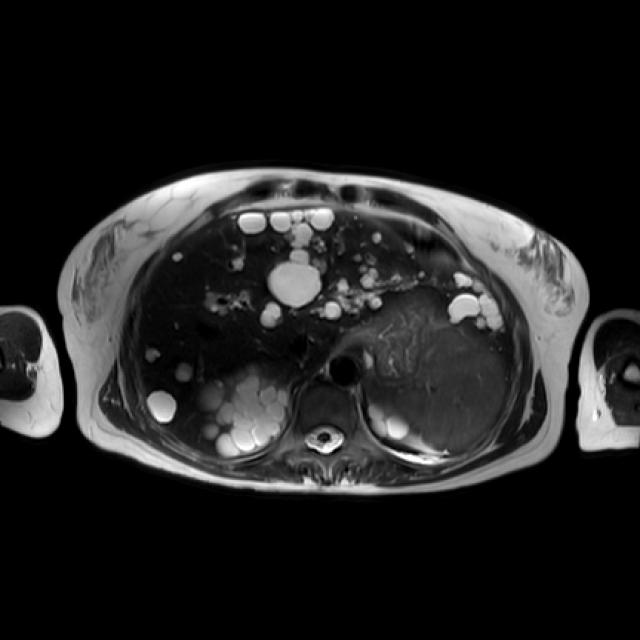sag: (202, 366, 290, 455)
sol: (368, 405, 416, 444)
